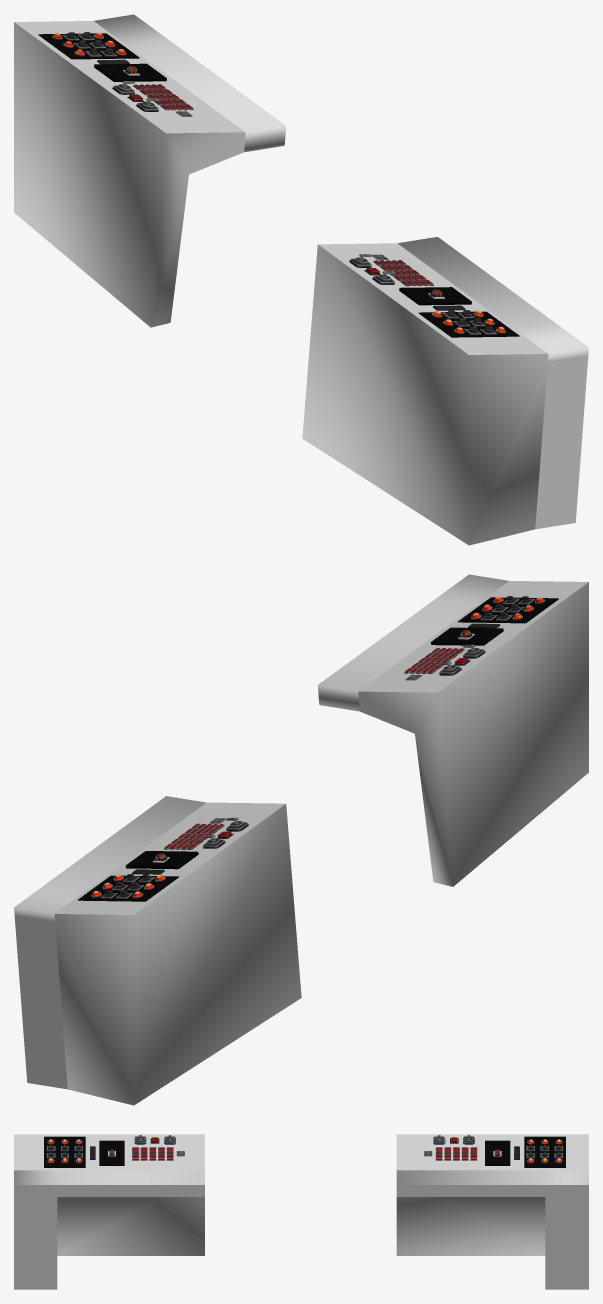
The model's file is PainelLateralfbx.fbx.
3 renders of one model, top to bottom at view 1: azimuth 30°, elevation 25°; view 2: azimuth 150°, elevation 25°; view 3: azimuth 270°, elevation 25°, orthographic. The views are drawn at different scales.
Parts seen in each view (by area): view 1: botoesSecretaria; view 2: botoesSecretaria; view 3: botoesSecretaria.
Boxes of the visible parts, x1,y1,x2,y2 form: botoesSecretaria: [14, 14, 588, 545]; botoesSecretaria: [14, 574, 588, 1105]; botoesSecretaria: [14, 1134, 588, 1289].
Bounding box in the file's own units: 83.19 × 118 × 484.
2 materials, 1 textured.
